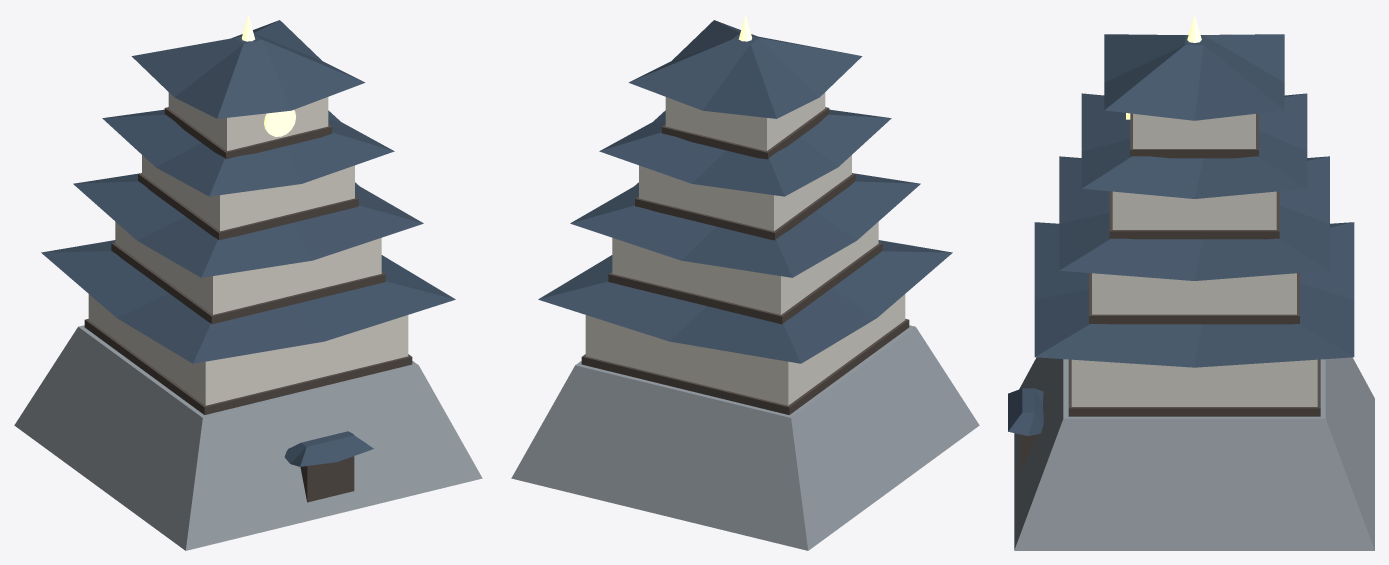
Rendered from 2-01_castle.glb.
3 renders of one model, left to right at view 1: azimuth 30°, elevation 25°; view 2: azimuth 150°, elevation 25°; view 3: azimuth 270°, elevation 25°, orthographic. The views are drawn at different scales.
Parts seen in each view (by area): view 1: Castle_2_01; view 2: Castle_2_01; view 3: Castle_2_01.
Part boxes in pixels (x1=…): Castle_2_01: x1=14, y1=14, x2=482, y2=550; Castle_2_01: x1=511, y1=14, x2=979, y2=550; Castle_2_01: x1=1008, y1=14, x2=1374, y2=550.
Size of the model in its own units: 8.8 by 12.4 by 8.95.
